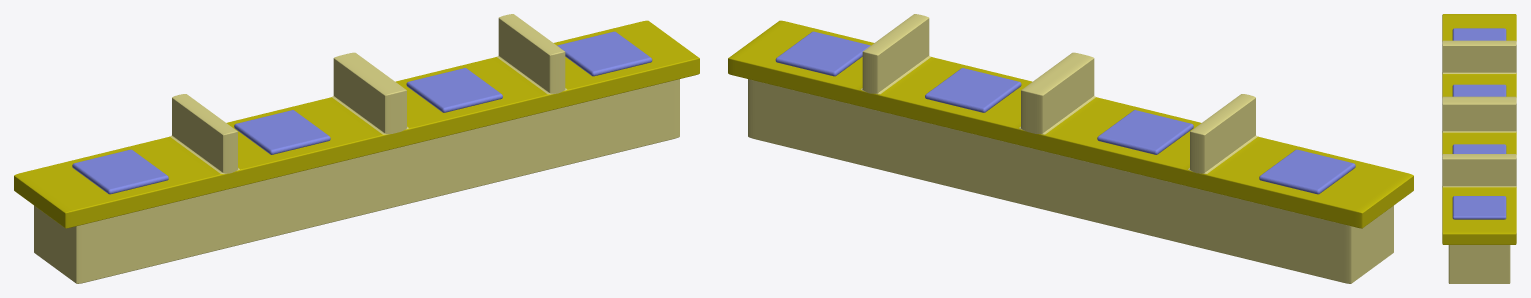
The model's file is window.fbx.
3 renders of one model, left to right at view 1: azimuth 30°, elevation 25°; view 2: azimuth 150°, elevation 25°; view 3: azimuth 270°, elevation 25°, orthographic. The views are drawn at different scales.
Parts seen in each view (by area): view 1: Cube; view 2: Cube; view 3: Cube.
Part boxes in pixels (x1,y1,x2,y2): Cube: (14,14,699,283); Cube: (728,14,1413,283); Cube: (1442,14,1516,283).
Size of the model in its own units: 1682 by 301 by 240.
